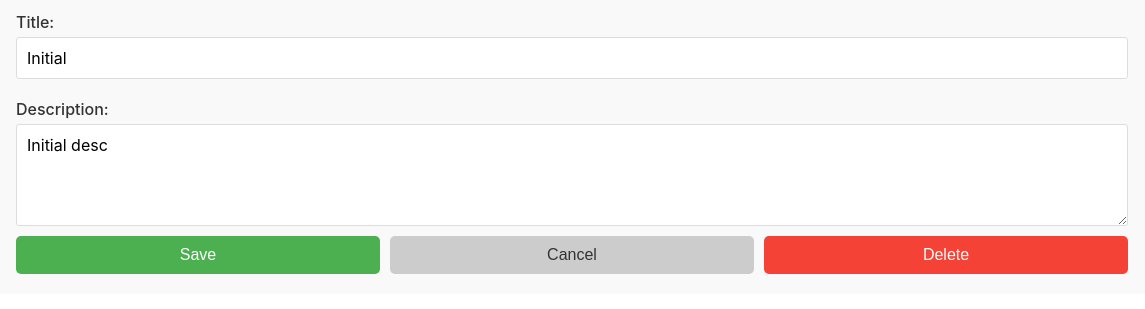
Test: TodoItemEdit › shows confirmation when Delete is clicked
What coordinates should you click on to do the following:
click the button "Delete"
I would click on:
 (946, 255)
Its box is [764,236,1128,274].
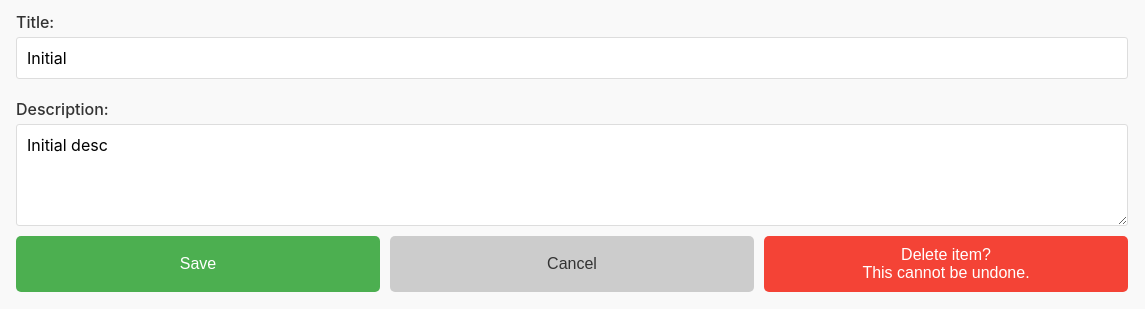
Check: the button "Delete item? This cannot be undone." is shown, box [764,236,1128,292]
